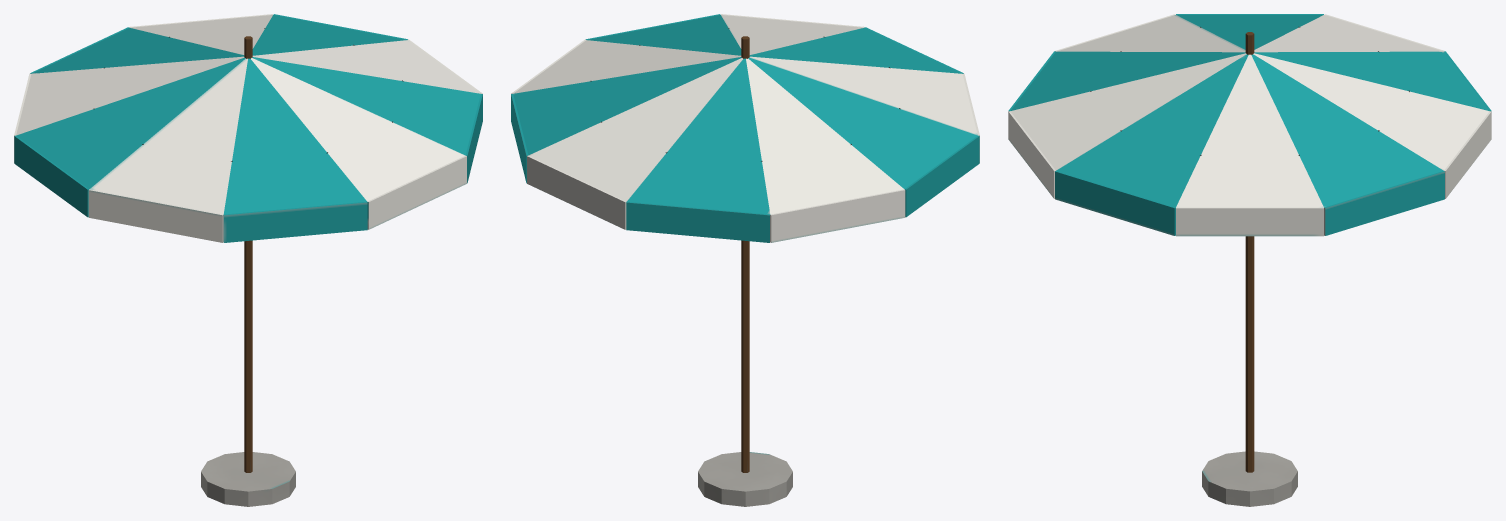
The model's file is slunecnik_e0c43325.glb.
3 renders of one model, left to right at view 1: azimuth 30°, elevation 25°; view 2: azimuth 150°, elevation 25°; view 3: azimuth 270°, elevation 25°, orthographic.
Visible parts, largest first — view 1: dum; view 2: dum; view 3: dum.
Part boxes in pixels (x1=…): dum: x1=14, y1=14, x2=482, y2=506; dum: x1=511, y1=14, x2=979, y2=506; dum: x1=1008, y1=14, x2=1491, y2=506.
Bounding box in the file's own units: 2.68 × 2.91 × 2.82.
Materials: 1 (1 with a texture image).
